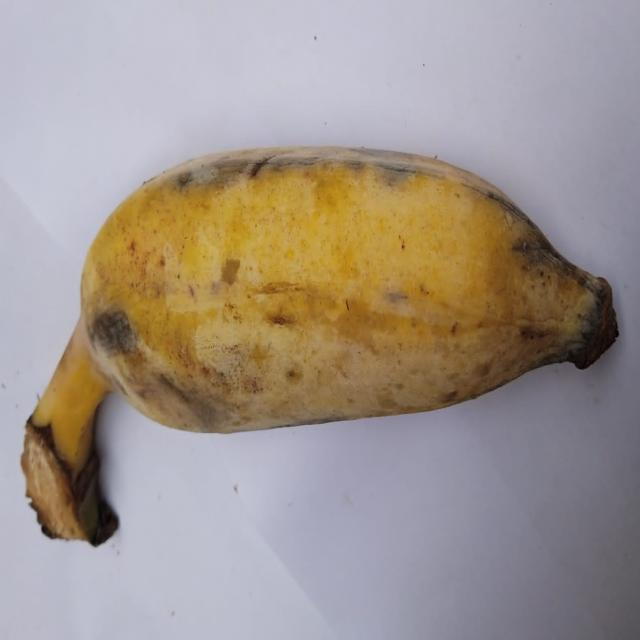banana: (22, 148, 617, 543)
